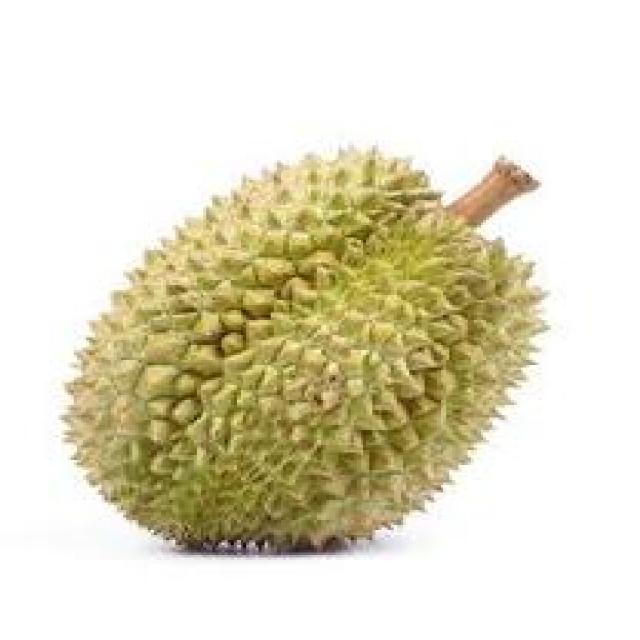fruit: (200, 185, 606, 600), (19, 188, 388, 592)
